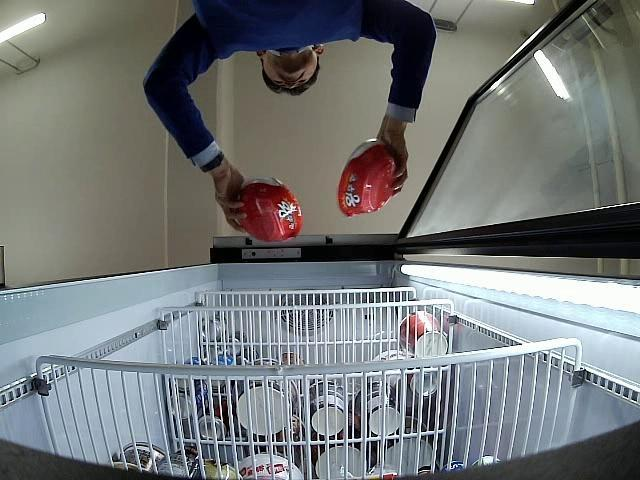10_wangTtukkeong: (338, 138, 397, 218), (236, 177, 302, 244)
